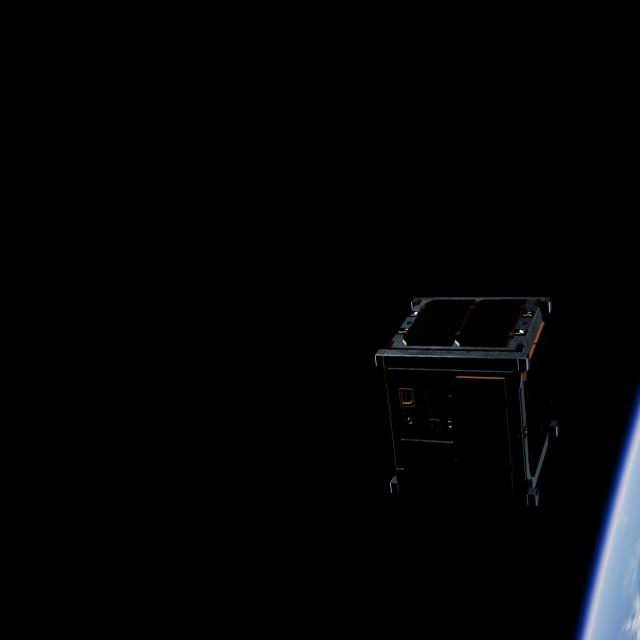satellite: (376, 284, 574, 514)
